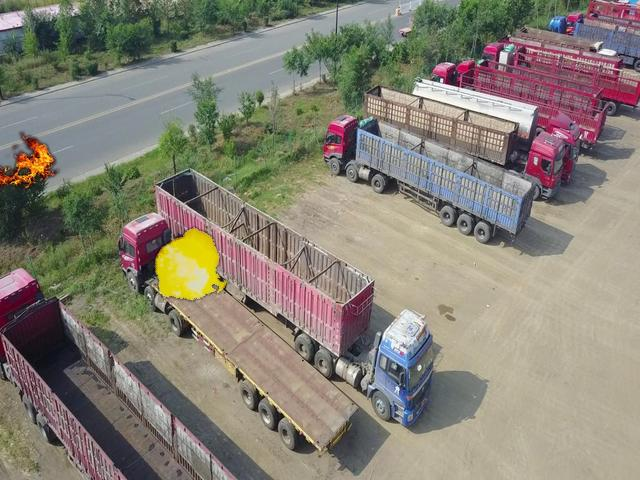fire: (152, 225, 228, 302), (1, 131, 59, 193)
